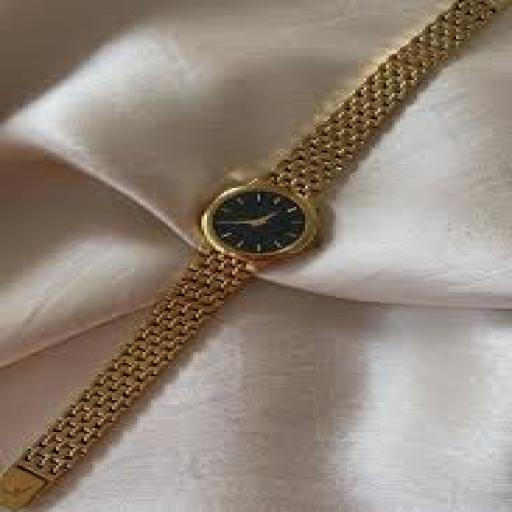KolSaati: (0, 20, 503, 494)
